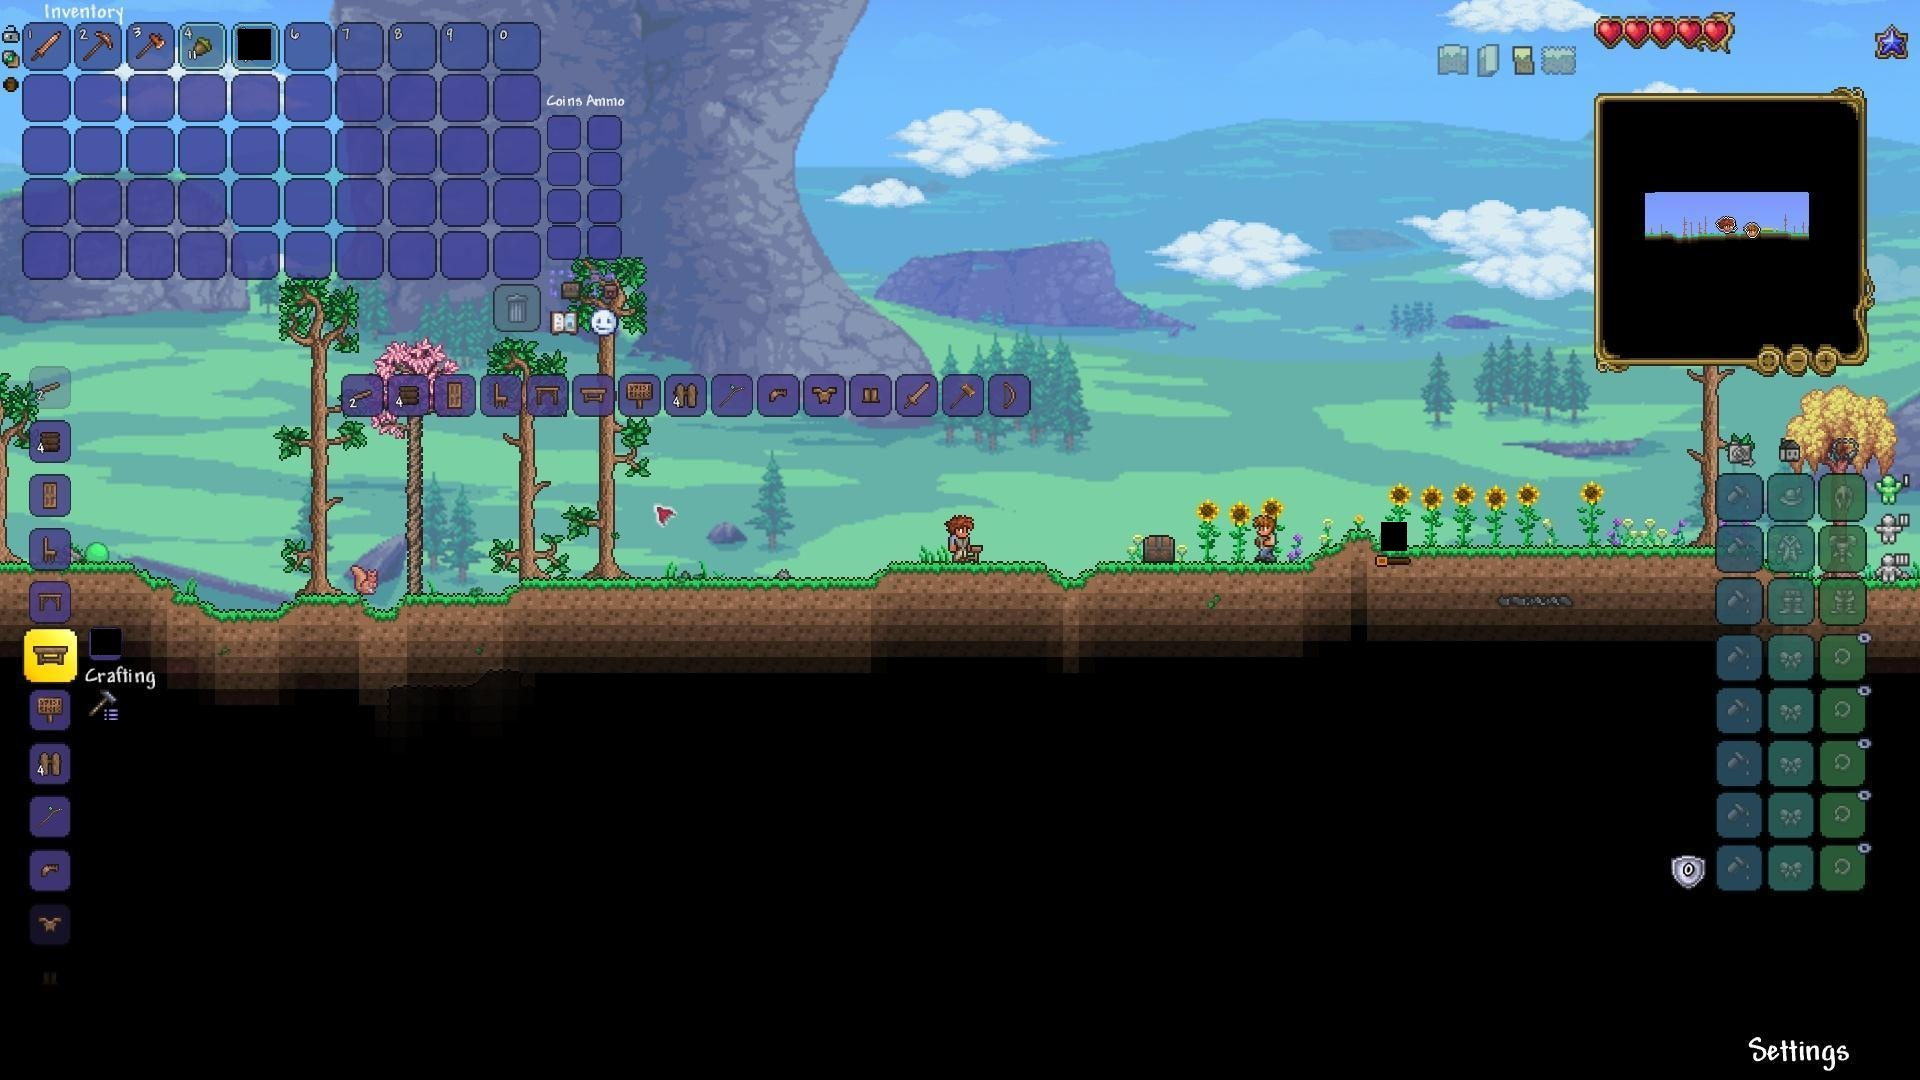breastplate: (811, 382, 840, 402), (37, 911, 65, 931)
helmet: (762, 380, 793, 407), (33, 856, 63, 884)
legs: (857, 381, 882, 409)
slime: (82, 538, 107, 566)
workbench: (576, 384, 613, 409), (34, 642, 65, 669)
